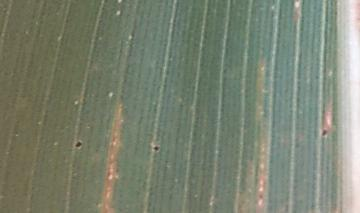tarspot: (72, 139, 83, 148), (320, 127, 328, 138), (151, 144, 160, 152)
